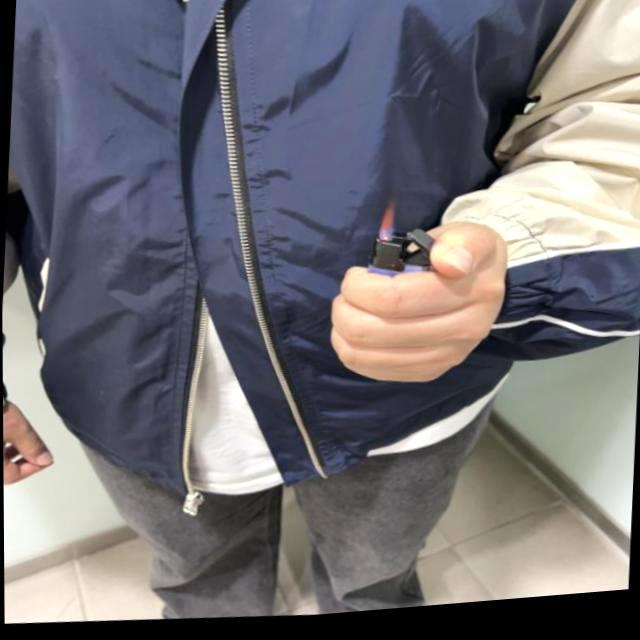fire: (374, 208, 400, 250)
